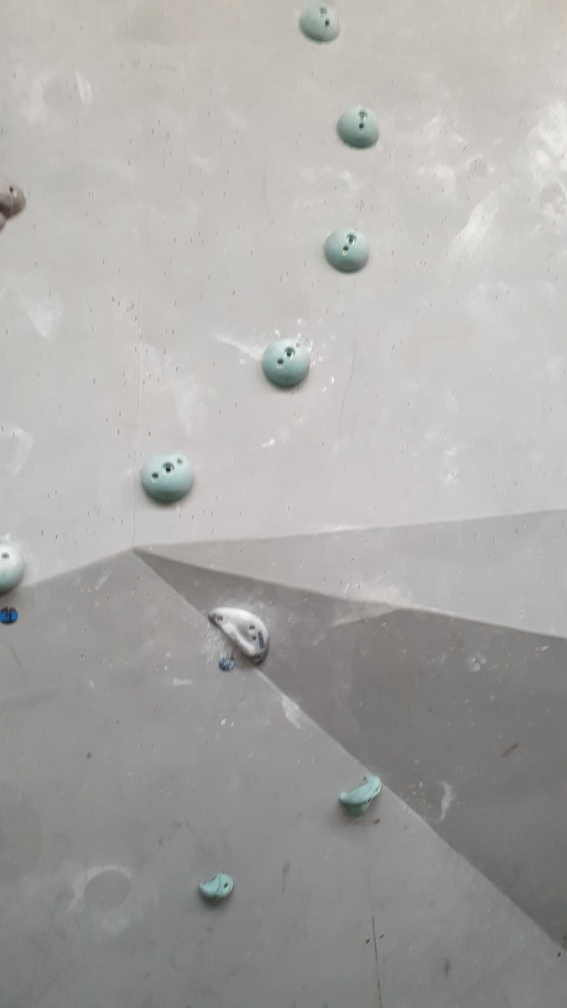Hand Start: (1, 607, 26, 630), (215, 652, 239, 674)
Jug: (333, 765, 386, 822)
Sloper: (140, 449, 195, 511), (258, 335, 315, 394), (323, 222, 373, 276), (334, 102, 386, 153), (290, 1, 345, 48), (1, 544, 32, 601)
